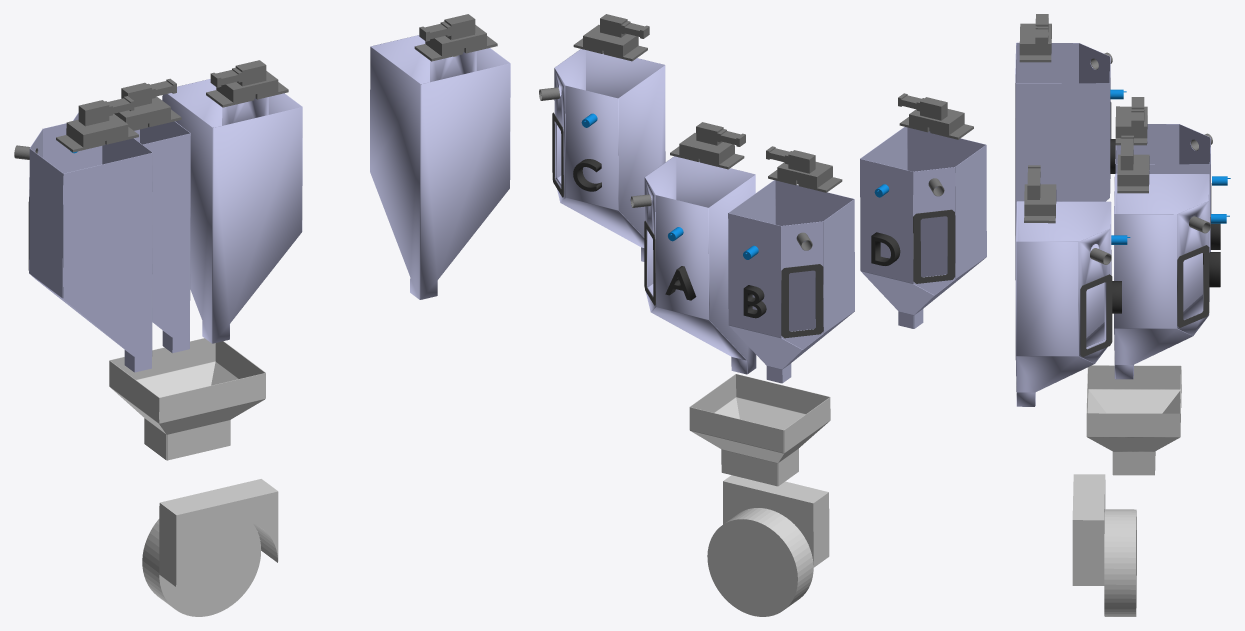
The model's file is modelo.glb.
3 renders of one model, left to right at view 1: azimuth 30°, elevation 25°; view 2: azimuth 150°, elevation 25°; view 3: azimuth 270°, elevation 25°, orthographic. The views are drawn at different scales.
Visible parts, largest first — view 1: Funil C, FunilA, Funil D, Montagem Completa 1.0 - Simulação misturador-1, Balança Superior, Funil B, Montagem Completa 1.0 - Sistema de Vácuo-15, Montagem Completa 1.0 - Sistema de Vácuo-9, Montagem Completa 1.0 - Sistema de Vácuo-1, Montagem Completa 1.0 - Sistema de Vácuo-13; view 2: Funil B, Funil D, Funil C, FunilA, Montagem Completa 1.0 - Simulação misturador-1, Balança Superior, Montagem Completa 1.0 - Sistema de Vácuo-9, Montagem Completa 1.0 - Sistema de Vácuo-1, Montagem Completa 1.0 - Sistema de Vácuo-15, Montagem Completa 1.0 - Sistema de Vácuo-13, Montagem Completa 1.0 - Janela-16, Montagem Completa 1.0 - Janela-14 (+2 smaller); view 3: Funil C, FunilA, Funil D, Balança Superior, Montagem Completa 1.0 - Simulação misturador-1, Funil B, Montagem Completa 1.0 - Sistema de Vácuo-1, Montagem Completa 1.0 - Sistema de Vácuo-9, Montagem Completa 1.0 - Sistema de Vácuo-15, Montagem Completa 1.0 - Sistema de Vácuo-13, Montagem Completa 1.0 - Janela-1, Montagem Completa 1.0 - Janela-10 (+2 smaller).
Boxes of the visible parts, bbox=[...] form: Funil C: bbox=[370, 35, 510, 299]; FunilA: bbox=[162, 79, 302, 343]; Funil D: bbox=[29, 123, 152, 372]; Montagem Completa 1.0 - Simulação misturador-1: bbox=[142, 479, 278, 616]; Balança Superior: bbox=[109, 338, 265, 460]; Funil B: bbox=[73, 112, 190, 352]; Montagem Completa 1.0 - Sistema de Vácuo-15: bbox=[56, 96, 138, 152]; Montagem Completa 1.0 - Sistema de Vácuo-9: bbox=[414, 14, 497, 61]; Montagem Completa 1.0 - Sistema de Vácuo-1: bbox=[206, 60, 288, 107]; Montagem Completa 1.0 - Sistema de Vácuo-13: bbox=[114, 78, 181, 130]; Funil B: bbox=[728, 180, 854, 383]; Funil D: bbox=[860, 127, 986, 328]; Funil C: bbox=[554, 49, 665, 261]; FunilA: bbox=[644, 156, 756, 374]; Montagem Completa 1.0 - Simulação misturador-1: bbox=[707, 475, 829, 616]; Balança Superior: bbox=[689, 374, 830, 486]; Montagem Completa 1.0 - Sistema de Vácuo-9: bbox=[573, 14, 649, 61]; Montagem Completa 1.0 - Sistema de Vácuo-1: bbox=[670, 122, 745, 169]; Montagem Completa 1.0 - Sistema de Vácuo-15: bbox=[898, 93, 973, 139]; Montagem Completa 1.0 - Sistema de Vácuo-13: bbox=[766, 146, 842, 192]; Montagem Completa 1.0 - Janela-16: bbox=[913, 209, 955, 283]; Montagem Completa 1.0 - Janela-14: bbox=[781, 264, 823, 338]; Funil C: bbox=[1015, 201, 1111, 406]; FunilA: bbox=[1114, 173, 1209, 379]; Funil D: bbox=[1015, 42, 1110, 279]; Balança Superior: bbox=[1086, 365, 1181, 475]; Montagem Completa 1.0 - Simulação misturador-1: bbox=[1072, 474, 1136, 616]; Funil B: bbox=[1115, 124, 1210, 251]; Montagem Completa 1.0 - Sistema de Vácuo-1: bbox=[1117, 135, 1149, 193]; Montagem Completa 1.0 - Sistema de Vácuo-9: bbox=[1024, 165, 1056, 223]; Montagem Completa 1.0 - Sistema de Vácuo-15: bbox=[1019, 14, 1051, 62]; Montagem Completa 1.0 - Sistema de Vácuo-13: bbox=[1115, 97, 1147, 145]; Montagem Completa 1.0 - Janela-1: bbox=[1177, 245, 1209, 327]; Montagem Completa 1.0 - Janela-10: bbox=[1080, 274, 1112, 356].
Bounding box in the file's own units: 1.52 × 1.84 × 0.6819.
